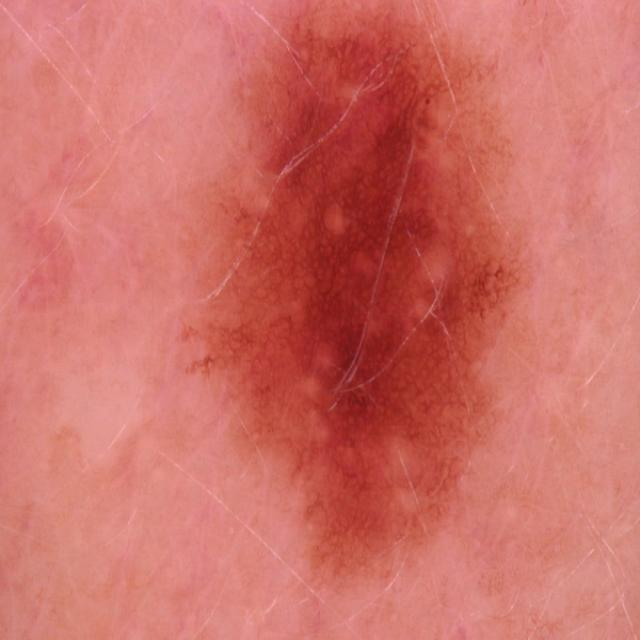NV: (180, 0, 542, 589)
